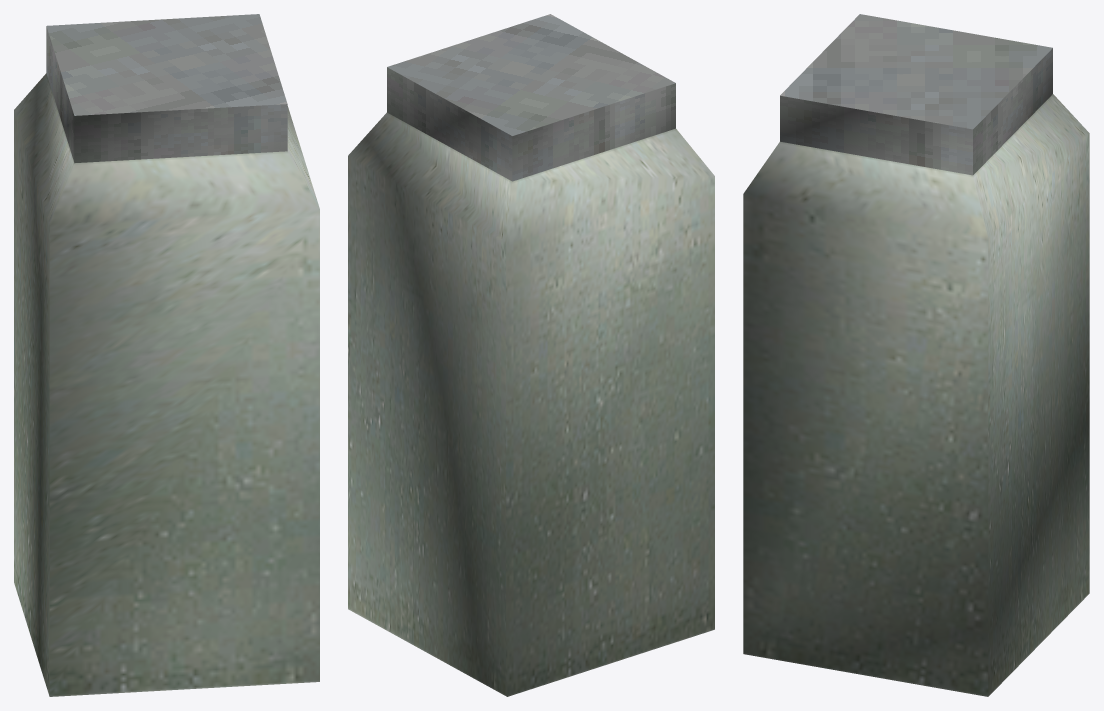
File: edb_con_tato_jar_funk_s01_l2.fbx
The picture shows the model from 3 angles, left to right: view 1: azimuth 30°, elevation 25°; view 2: azimuth 150°, elevation 25°; view 3: azimuth 270°, elevation 25°; orthographic projection. The views are drawn at different scales.
Visible parts, largest first — view 1: mesh_node; view 2: mesh_node; view 3: mesh_node.
Part boxes in pixels (x1=…): mesh_node: x1=14, y1=14, x2=319, y2=696; mesh_node: x1=348, y1=14, x2=714, y2=696; mesh_node: x1=743, y1=14, x2=1089, y2=696.
Bounding box in the file's own units: 0.1707 × 0.3 × 0.1707.
Materials: 3 (3 with a texture image).
